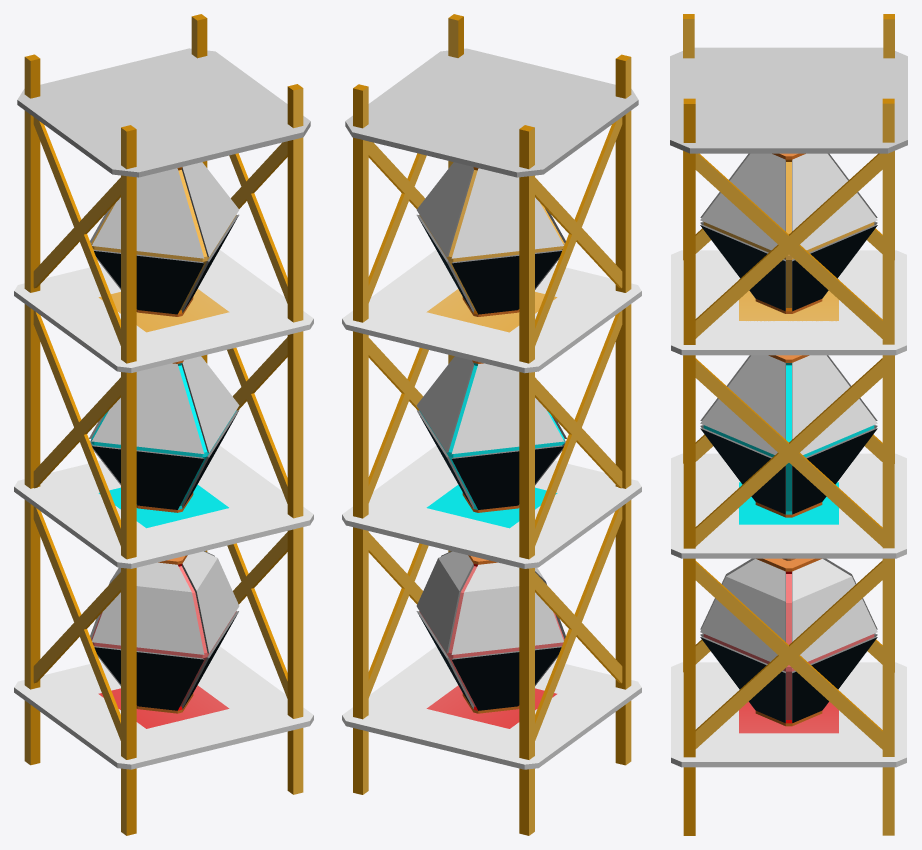
Rendered from Containers_01.glb.
3 renders of one model, left to right at view 1: azimuth 30°, elevation 25°; view 2: azimuth 150°, elevation 25°; view 3: azimuth 270°, elevation 25°, orthographic. The views are drawn at different scales.
Parts seen in each view (by area): view 1: Containers_01; view 2: Containers_01; view 3: Containers_01.
Part boxes in pixels (x1,y1,x2,y2): Containers_01: [14, 14, 313, 835]; Containers_01: [342, 14, 641, 835]; Containers_01: [670, 14, 907, 835].
Size of what is drawn, in the model's own units: 1.63 by 5.53 by 1.63.
1 material, 1 textured.
